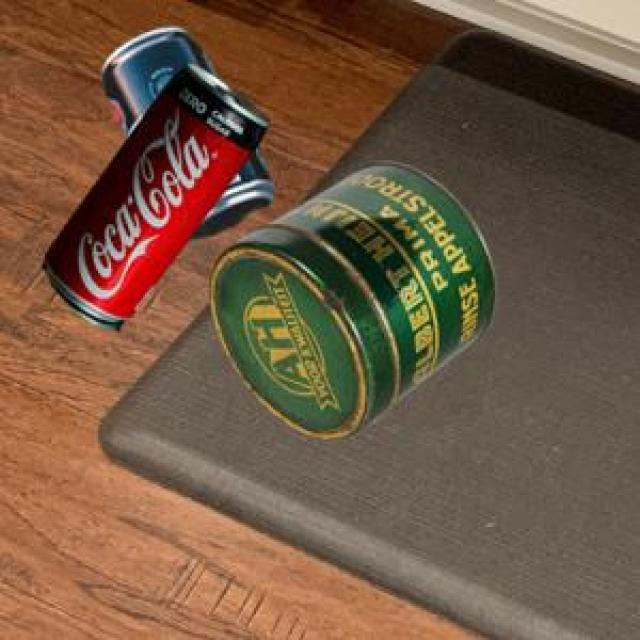Can: (206, 159, 494, 436), (39, 61, 266, 327), (99, 25, 270, 236)
